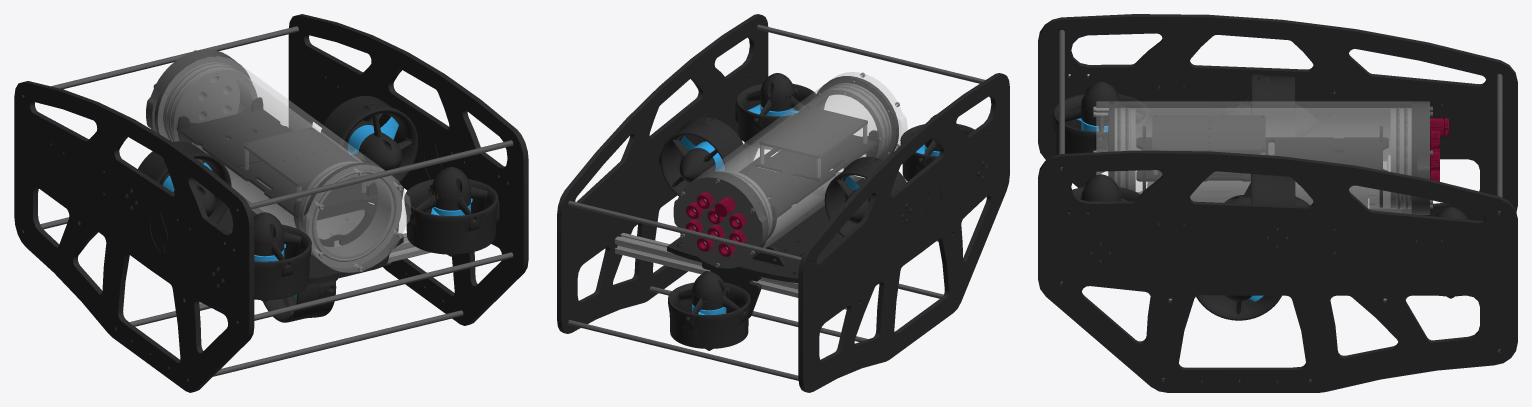
Rendered from BLUEROV1.glb.
3 renders of one model, left to right at view 1: azimuth 30°, elevation 25°; view 2: azimuth 150°, elevation 25°; view 3: azimuth 270°, elevation 25°, orthographic. The views are drawn at different scales.
Visible parts, largest first — view 1: BROV-R1.013; view 2: BROV-R1.013; view 3: BROV-R1.013.
Boxes of the visible parts, <box> form: BROV-R1.013: <box>14,14,528,392</box>; BROV-R1.013: <box>557,14,1009,392</box>; BROV-R1.013: <box>1038,14,1517,392</box>.
Size of the model in its own units: 0.3327 by 0.2663 by 0.4826.
